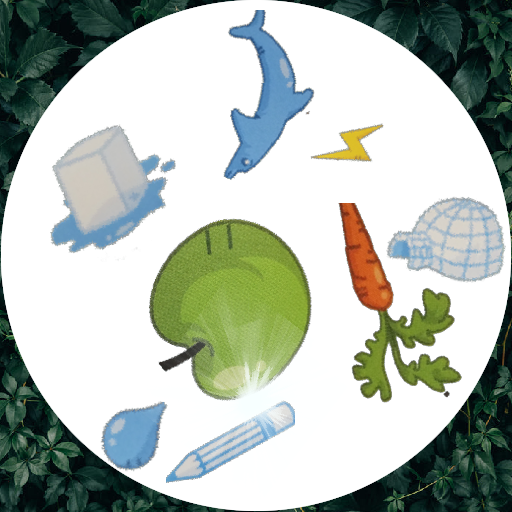apple_icon: (144, 216, 336, 408)
carrot_icon: (265, 203, 485, 423)
cube_icon: (21, 102, 181, 262)
dolphin_icon: (172, 10, 346, 184)
igloo_icon: (384, 184, 506, 306)
lightning_icon: (309, 105, 388, 184)
pen_icon: (166, 380, 295, 509)
raindrop_icon: (97, 394, 177, 474)
